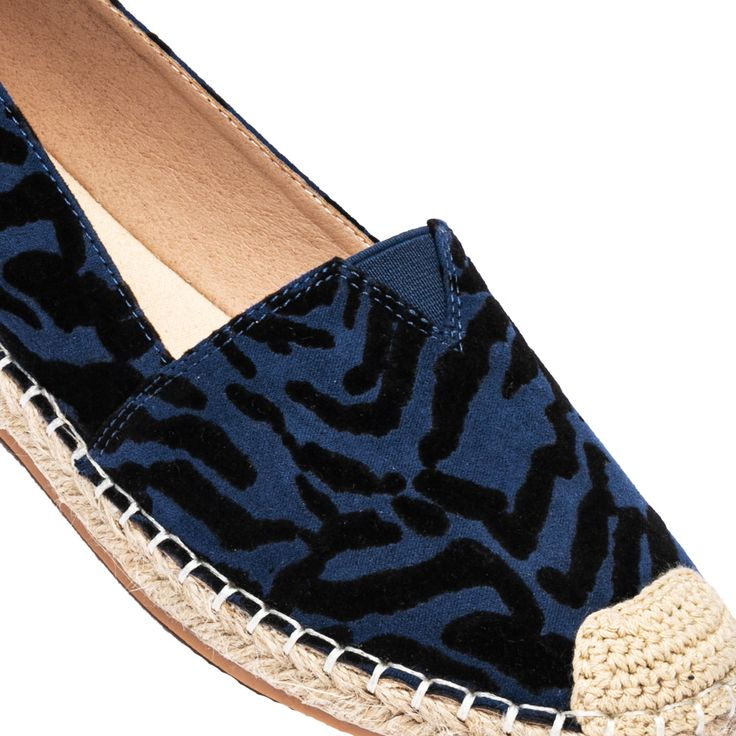gamuza: (1, 81, 704, 720)
